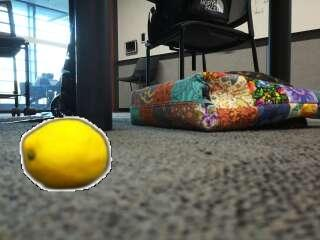lemon: (23, 119, 109, 189)
